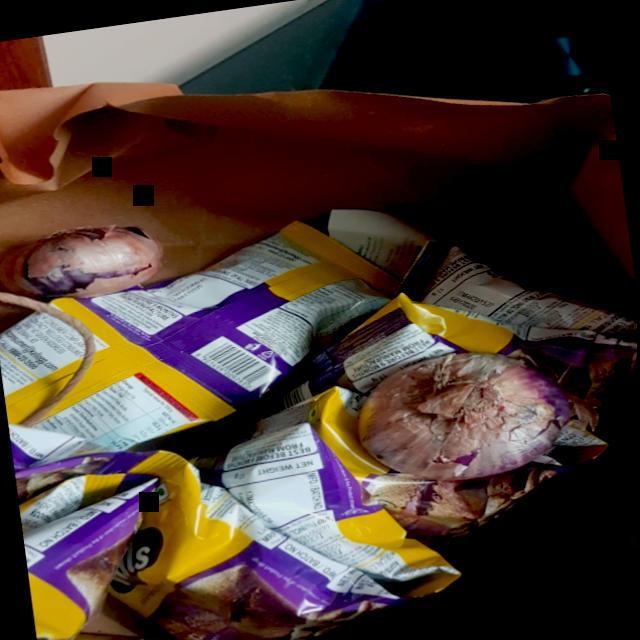onion: (338, 328, 585, 501), (0, 216, 179, 314)
